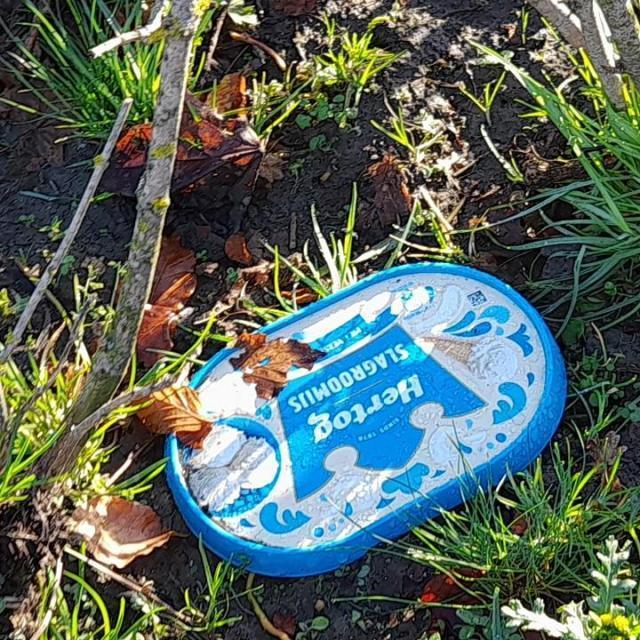Paper: (160, 259, 570, 581)
